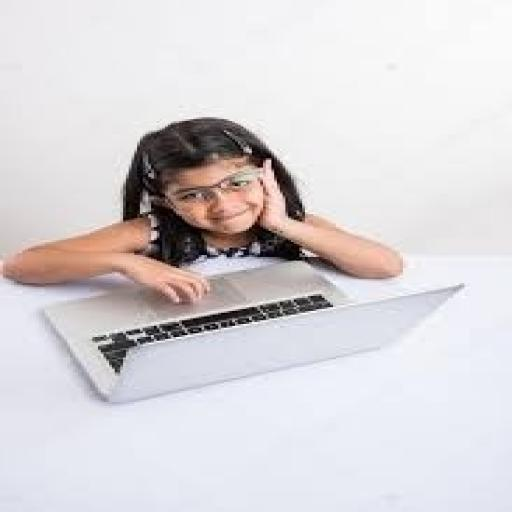using_laptop: (39, 257, 465, 404)
